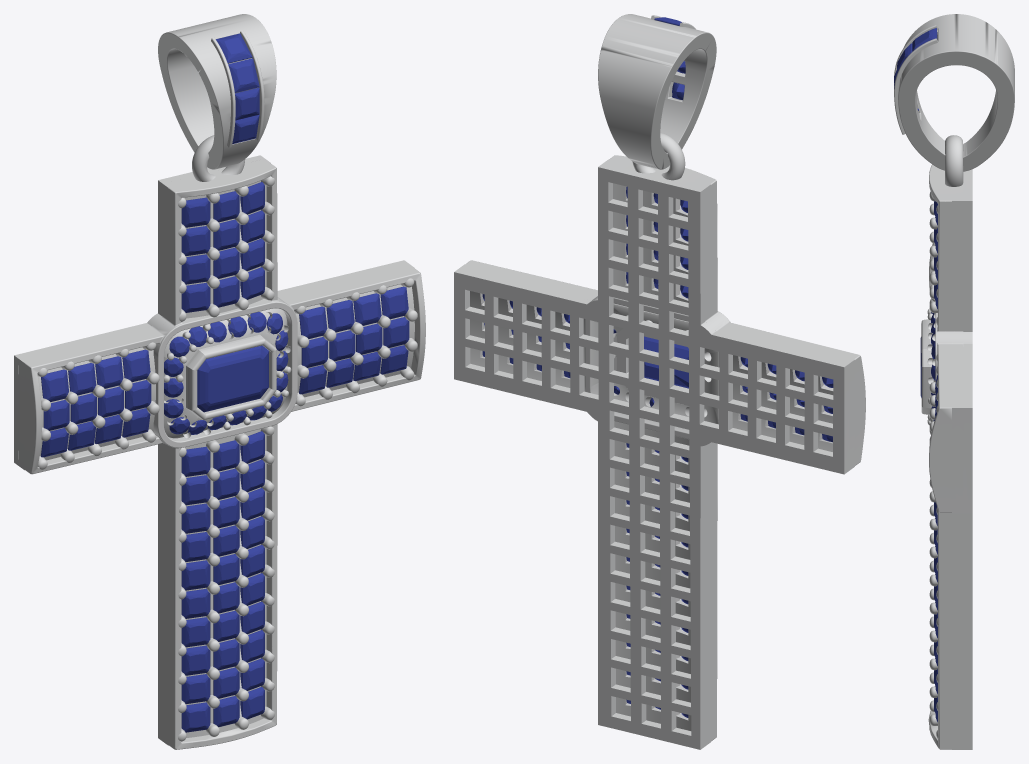
The model's file is sapphire-cross.glb.
The picture shows the model from 3 angles, left to right: view 1: azimuth 30°, elevation 25°; view 2: azimuth 150°, elevation 25°; view 3: azimuth 270°, elevation 25°; orthographic projection.
Parts seen in each view (by area): view 1: BEZEL GEM, EMERALD BUILDER; view 2: BEZEL GEM, EMERALD BUILDER; view 3: BEZEL GEM, EMERALD BUILDER.
Part boxes in pixels (x1,y1,x2,y2): BEZEL GEM: (14,14,425,749); EMERALD BUILDER: (40,33,409,732); BEZEL GEM: (454,14,865,749); EMERALD BUILDER: (482,17,833,717); BEZEL GEM: (894,14,1014,749); EMERALD BUILDER: (894,28,937,722).
Bounding box in the file's own units: 0.038 × 0.0655 × 0.0104.
